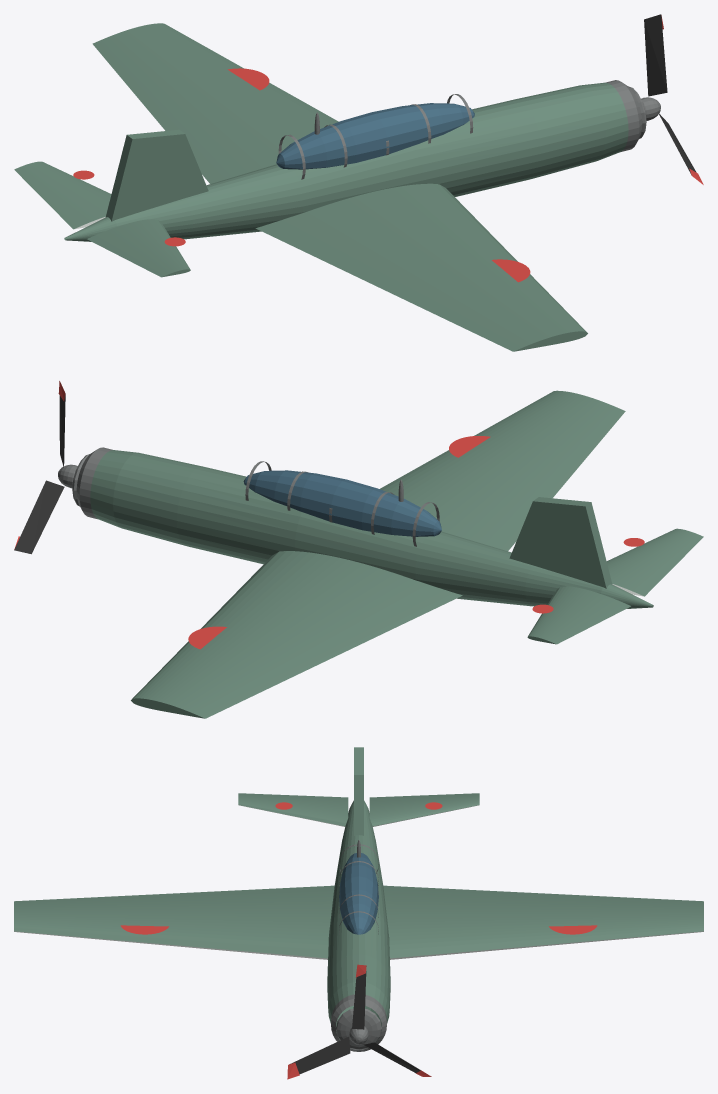
The model's file is b-dive-bomber.glb.
The picture shows the model from 3 angles, top to bottom: view 1: azimuth 30°, elevation 25°; view 2: azimuth 150°, elevation 25°; view 3: azimuth 270°, elevation 25°; orthographic projection. The views are drawn at different scales.
Parts seen in each view (by area): view 1: B dive-bomber; view 2: B dive-bomber; view 3: B dive-bomber.
Boxes of the visible parts, x1,y1,x2,y2 form: B dive-bomber: [14, 14, 703, 351]; B dive-bomber: [14, 381, 703, 718]; B dive-bomber: [14, 747, 703, 1079].
Bounding box in the file's own units: 10.51 × 2.51 × 12.8.
